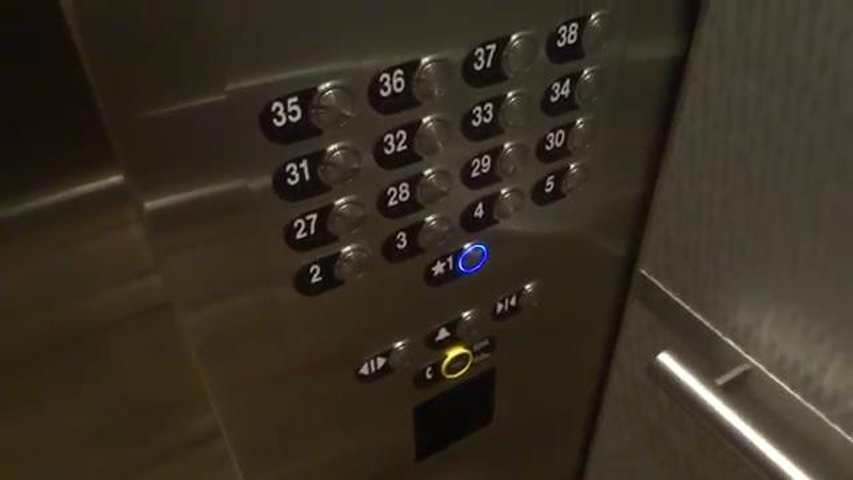2: (287, 241, 373, 300)
27: (281, 191, 371, 253)
28: (375, 163, 456, 221)
29: (457, 139, 529, 192)
3: (377, 207, 455, 263)
30: (533, 116, 604, 165)
31: (267, 143, 366, 204)
32: (370, 110, 456, 172)
33: (457, 86, 534, 144)
34: (538, 64, 609, 117)
35: (255, 77, 362, 145)
36: (365, 54, 455, 117)
37: (457, 26, 545, 90)
38: (546, 7, 617, 65)
4: (457, 183, 527, 235)
5: (528, 159, 590, 207)
alarm: (423, 305, 483, 352)
call: (413, 336, 495, 388)
close: (488, 278, 543, 323)
open: (348, 336, 412, 387)
s1: (420, 237, 489, 289)
